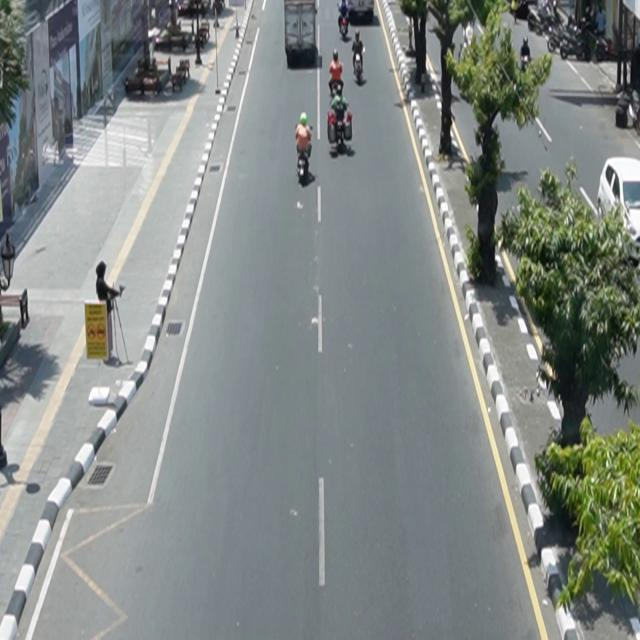bus: (284, 1, 318, 67)
car: (597, 157, 640, 261)
